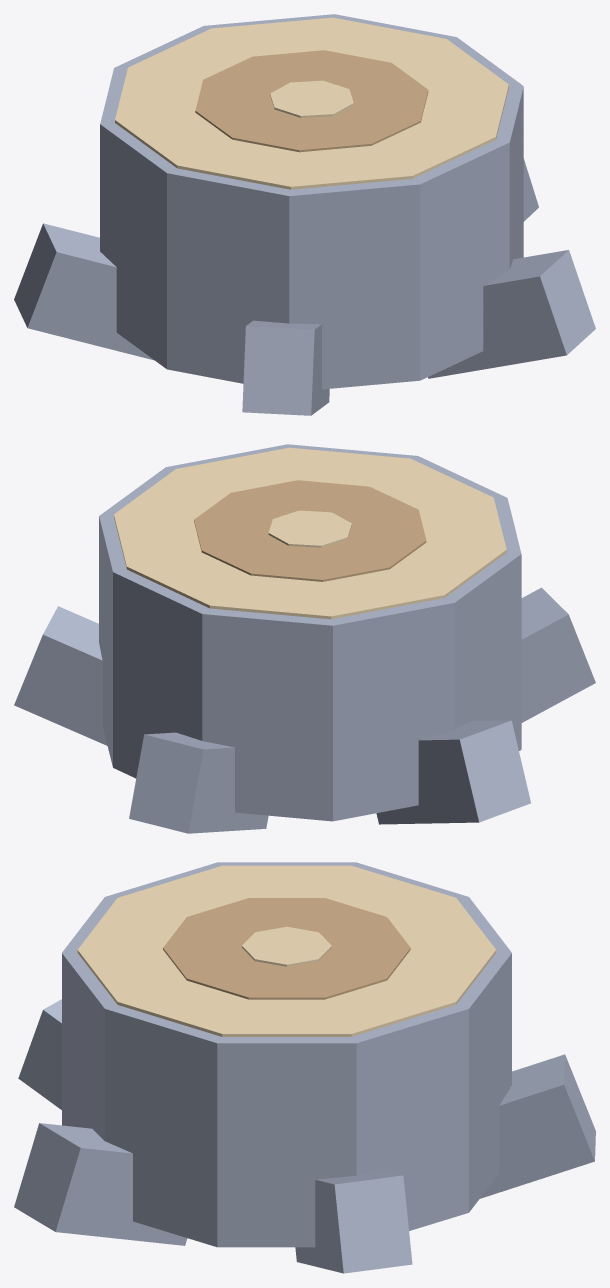
File: Stump_Crystal.fbx
The picture shows the model from 3 angles, top to bottom: view 1: azimuth 30°, elevation 25°; view 2: azimuth 150°, elevation 25°; view 3: azimuth 270°, elevation 25°; orthographic projection. The views are drawn at different scales.
Visible parts, largest first — view 1: Stump_Crystal_Mesh; view 2: Stump_Crystal_Mesh; view 3: Stump_Crystal_Mesh.
Part boxes in pixels (<box>): Stump_Crystal_Mesh: <box>14,14,595,415</box>; Stump_Crystal_Mesh: <box>14,444,595,833</box>; Stump_Crystal_Mesh: <box>14,862,595,1273</box>.
Bounding box in the file's own units: 2.71 × 1.23 × 2.59.
